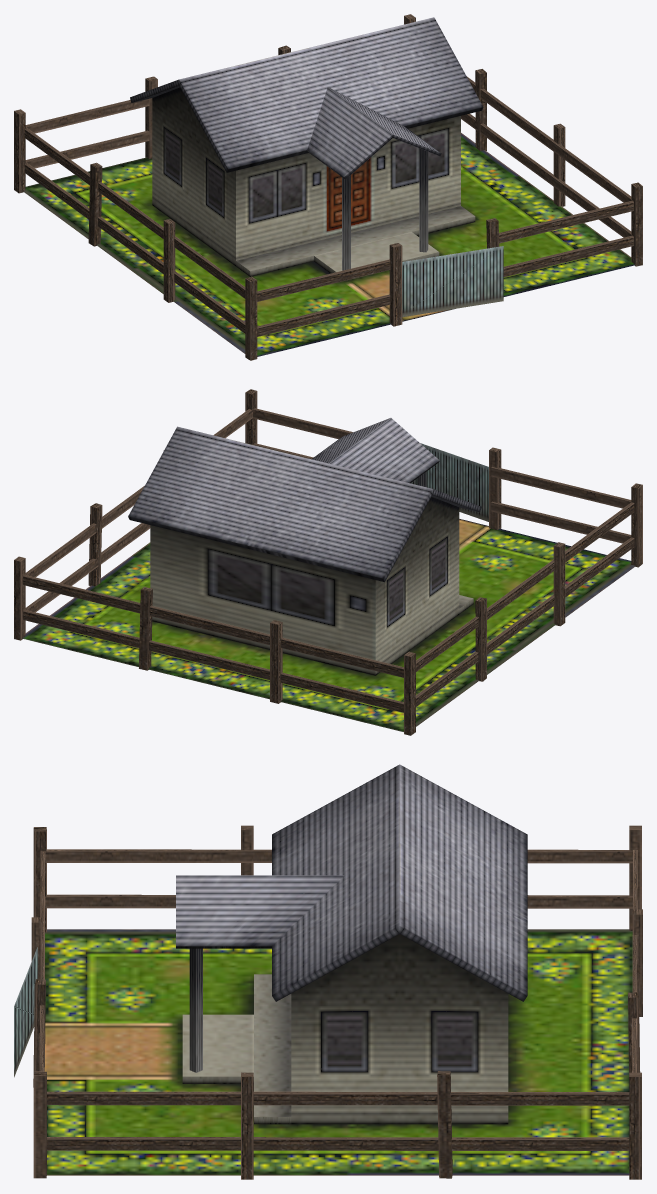
Rendered from GenericHouse02.fbx.
3 renders of one model, top to bottom at view 1: azimuth 30°, elevation 25°; view 2: azimuth 150°, elevation 25°; view 3: azimuth 270°, elevation 25°, orthographic. The views are drawn at different scales.
Visible parts, largest first — view 1: GenericHouse02A2; view 2: GenericHouse02A2; view 3: GenericHouse02A2.
Part boxes in pixels (x1,y1,x2,y2): GenericHouse02A2: (14,14,642,360); GenericHouse02A2: (14,389,642,735); GenericHouse02A2: (14,764,642,1179).
Size of the model in its own units: 5.2 by 2.02 by 5.49.
